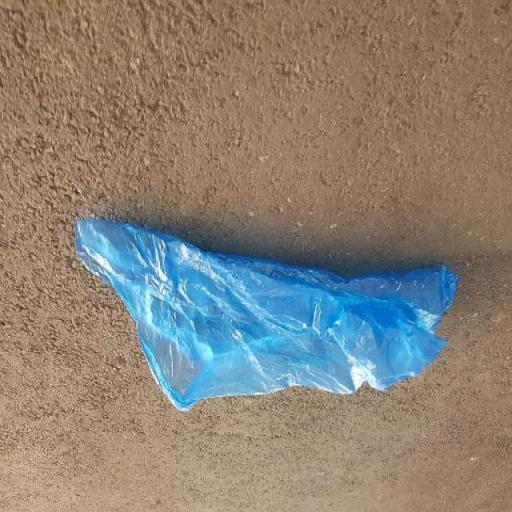plastic-bag: (72, 220, 462, 415)
